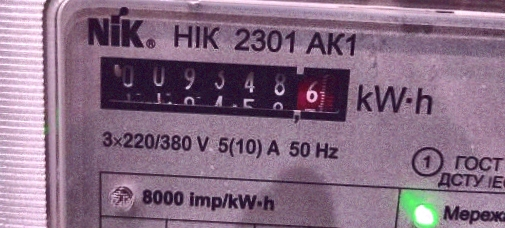0: (119, 61, 134, 87), (150, 62, 166, 86)
3: (210, 64, 226, 91)
4: (240, 66, 256, 94)
6: (302, 76, 320, 104)
8: (270, 69, 287, 97)
9: (179, 64, 196, 91)
screen: (87, 47, 359, 130)
